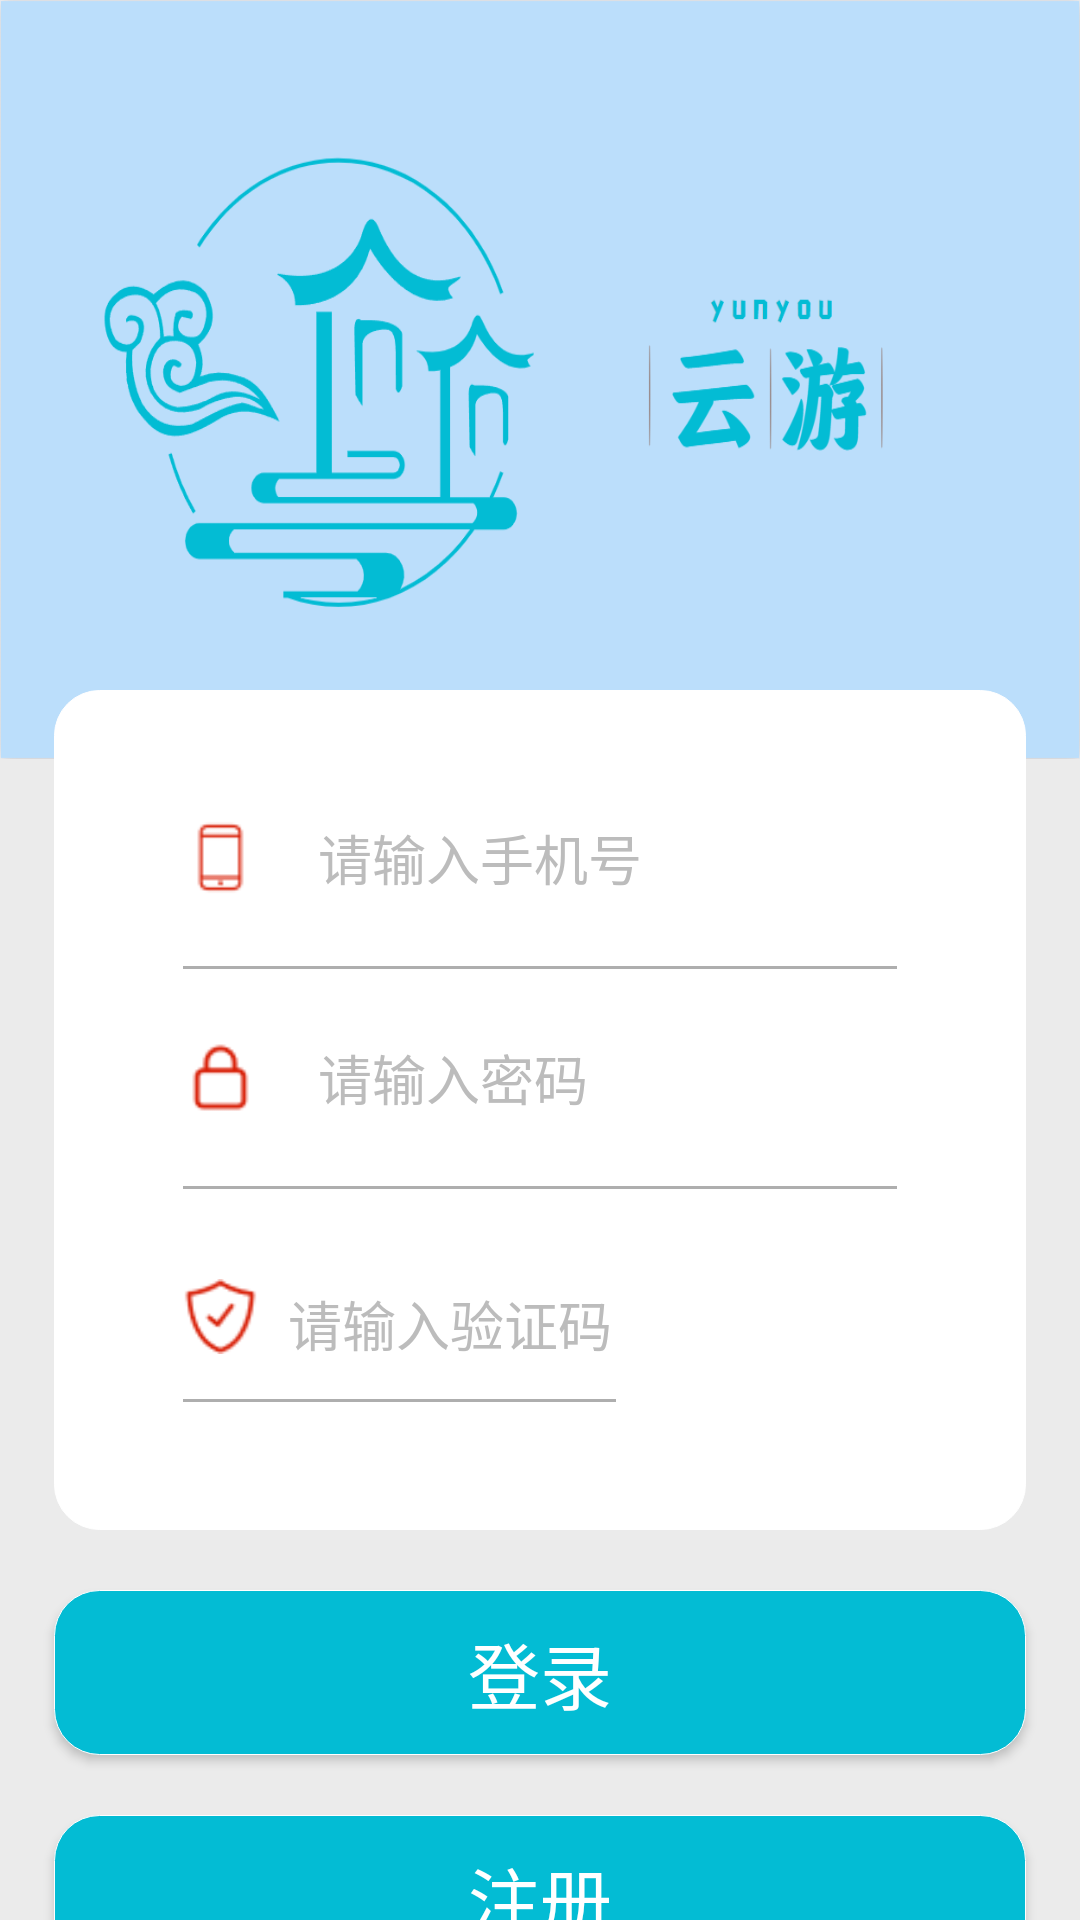

Named icons in this screenshot (1080w x 1920h) and their bounding boxes, Rect(x1, y1, x2, y2):
code: Rect(185, 1279, 256, 1354)
phone: Rect(197, 824, 244, 891)
